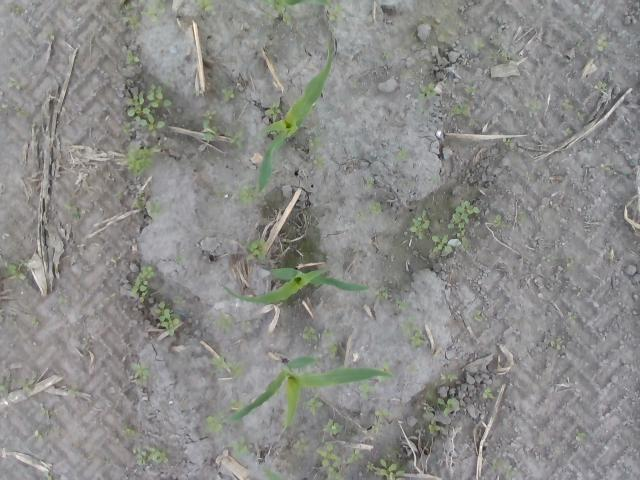Maize: (224, 356, 394, 432), (254, 37, 334, 196), (220, 267, 372, 303), (261, 0, 329, 10), (260, 467, 288, 480)
Weeds: (125, 78, 173, 116), (124, 144, 159, 177), (315, 443, 343, 480), (448, 200, 480, 230), (130, 266, 156, 302), (210, 354, 246, 380), (154, 301, 178, 336), (400, 316, 426, 348), (366, 458, 403, 480), (132, 444, 168, 466), (134, 114, 166, 138), (491, 40, 518, 66), (491, 457, 520, 480), (0, 258, 29, 281), (139, 0, 166, 23), (409, 210, 429, 240), (227, 436, 252, 460), (146, 198, 170, 219), (204, 412, 225, 436), (242, 239, 266, 260), (326, 0, 345, 26), (302, 392, 322, 416), (130, 362, 150, 386), (236, 183, 257, 204), (224, 129, 246, 149), (376, 361, 395, 382), (431, 234, 452, 253), (436, 397, 458, 415), (214, 312, 232, 334), (274, 4, 292, 26), (358, 378, 376, 398), (418, 82, 438, 100), (264, 102, 282, 122), (120, 14, 142, 30), (324, 419, 344, 435), (203, 120, 218, 141), (294, 437, 310, 455), (524, 100, 542, 116), (64, 204, 81, 220), (227, 398, 246, 412), (456, 229, 468, 251), (450, 103, 470, 116), (18, 378, 36, 392), (374, 408, 390, 422), (302, 326, 318, 340), (491, 214, 507, 228), (126, 50, 140, 66), (394, 147, 408, 162), (220, 87, 234, 102), (324, 343, 338, 357), (549, 336, 563, 350), (368, 200, 382, 214), (348, 449, 363, 462), (597, 35, 609, 51), (202, 108, 218, 120), (313, 154, 325, 170), (0, 379, 10, 398), (196, 0, 213, 11), (375, 286, 388, 300), (7, 77, 21, 90), (428, 419, 440, 434), (395, 298, 410, 310), (308, 136, 322, 148), (472, 309, 484, 322), (575, 428, 586, 442), (322, 328, 338, 337), (542, 253, 558, 262), (502, 136, 514, 148), (120, 122, 132, 134), (29, 430, 45, 439), (561, 99, 574, 110), (474, 37, 484, 51), (134, 196, 144, 210), (441, 374, 458, 382), (593, 81, 608, 90), (28, 316, 40, 327), (567, 311, 577, 324), (240, 318, 250, 331), (175, 253, 188, 263), (82, 334, 91, 348), (482, 387, 493, 398), (262, 9, 272, 21), (122, 426, 135, 435), (66, 387, 80, 395), (45, 31, 56, 41), (566, 256, 575, 268), (561, 127, 573, 136), (216, 188, 226, 198), (40, 406, 50, 416), (371, 421, 379, 433), (357, 209, 365, 221), (410, 364, 420, 373), (601, 162, 611, 171), (419, 108, 430, 116), (466, 87, 477, 95), (270, 129, 284, 135), (518, 212, 526, 222), (426, 176, 436, 184), (423, 406, 434, 413), (367, 177, 374, 188), (382, 50, 391, 58), (524, 170, 532, 179), (14, 6, 22, 15), (352, 78, 358, 88), (125, 4, 134, 10), (46, 472, 52, 480)
